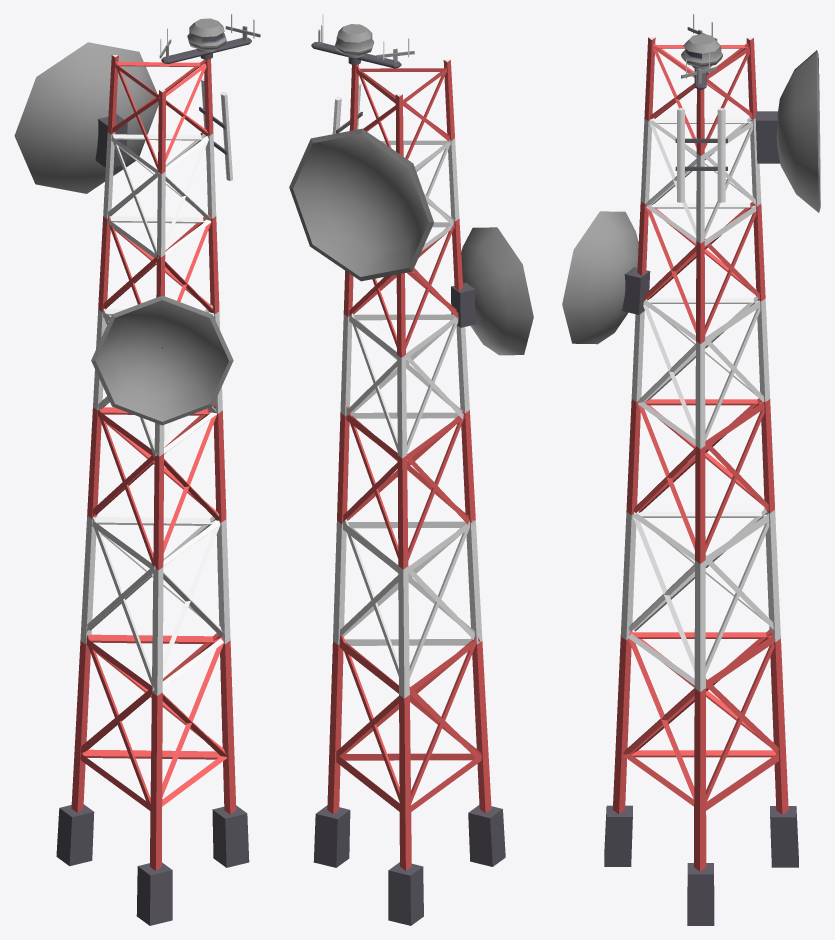
Rendered from radio-tower.glb.
3 views of the same model, side by side, from view 1: azimuth 30°, elevation 25°; view 2: azimuth 150°, elevation 25°; view 3: azimuth 270°, elevation 25° (orthographic). The views are drawn at different scales.
Parts seen in each view (by area): view 1: SM_RadioTower:pPrism71_n3d; view 2: SM_RadioTower:pPrism71_n3d; view 3: SM_RadioTower:pPrism71_n3d.
Part boxes in pixels (bbox=[...]): SM_RadioTower:pPrism71_n3d: bbox=[14, 14, 260, 925]; SM_RadioTower:pPrism71_n3d: bbox=[289, 14, 533, 925]; SM_RadioTower:pPrism71_n3d: bbox=[562, 14, 820, 925].
Size of the model in its own units: 1.1 by 4.6 by 1.24.
